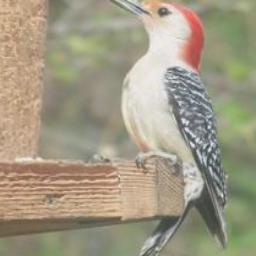Woodpecker: (99, 0, 227, 256)
